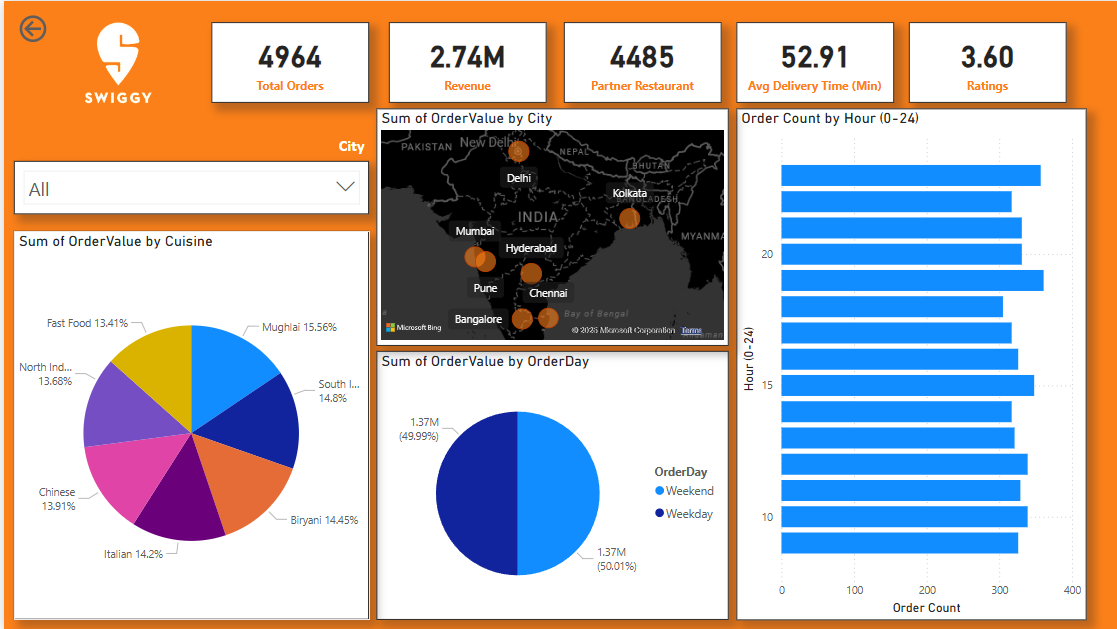

Layout of this report page (visuals, bound fields, positions):
{"tool":"powerbi","page":{"name":"Swiggy","canvas":[1280,720],"ordinal":1},"visuals":[{"type":"slicer","fields":{"Values":["swiggy_vs_zomato_dummy_data.City"]},"box":[12.1,183.2,405.8,60.6],"z":0},{"type":"image","box":[62.2,1.4,137.9,137.9],"z":1000},{"type":"card","fields":{"Values":["CountNonNull(swiggy_vs_zomato_dummy_data.Platform)"]},"box":[237.7,24.2,180.2,92.4],"z":2000},{"type":"card","fields":{"Values":["Sum(swiggy_vs_zomato_dummy_data.OrderValue)"]},"box":[440.6,24.2,180.2,92.4],"z":3000},{"type":"card","fields":{"Values":["Count(swiggy_vs_zomato_dummy_data.Restaurant)"]},"box":[640.5,24.2,180.2,92.4],"z":4000},{"type":"card","fields":{"Values":["Avg(swiggy_vs_zomato_dummy_data.DeliveryTime)"]},"box":[837.4,24.2,180.2,92.4],"z":5000},{"type":"card","fields":{"Values":["Avg(swiggy_vs_zomato_dummy_data.CustomerRating)"]},"box":[1034.2,24.2,180.2,92.4],"z":6000},{"type":"textbox","box":[12.1,148.4,405.8,37.9],"z":7000},{"type":"pieChart","fields":{"Category":["swiggy_vs_zomato_dummy_data.OrderDay"],"Y":["Sum(swiggy_vs_zomato_dummy_data.OrderValue)"]},"box":[425.6,400,402.8,307.2],"z":8000},{"type":"barChart","fields":{"Category":["swiggy_vs_zomato_dummy_data.OrderHour"],"Y":["CountNonNull(swiggy_vs_zomato_dummy_data.OrderDay)"]},"box":[837.4,122.7,399.8,584.5],"z":9000},{"type":"pieChart","fields":{"Y":["Sum(swiggy_vs_zomato_dummy_data.OrderValue)"],"Category":["swiggy_vs_zomato_dummy_data.Cuisine"]},"box":[12.1,263.5,405.8,443.7],"z":10000},{"type":"map","fields":{"Category":["swiggy_vs_zomato_dummy_data.City"],"Size":["Sum(swiggy_vs_zomato_dummy_data.OrderValue)"]},"box":[425,122.8,402.8,271.1],"z":11000},{"type":"actionButton","box":[12.2,10.8,100,40.6],"z":12000}]}

Visuals, with their boxes in screenshot pixels (x1, y1, x2, y2), scaled from the page's 1280x720 canvas onto the 1117x629 screenshot:
slicer - swiggy_vs_zomato_dummy_data.City: [11, 160, 365, 213]
image: [54, 1, 175, 122]
card - CountNonNull(swiggy_vs_zomato_dummy_data.Platform): [207, 21, 365, 102]
card - Sum(swiggy_vs_zomato_dummy_data.OrderValue): [384, 21, 542, 102]
card - Count(swiggy_vs_zomato_dummy_data.Restaurant): [559, 21, 716, 102]
card - Avg(swiggy_vs_zomato_dummy_data.DeliveryTime): [731, 21, 888, 102]
card - Avg(swiggy_vs_zomato_dummy_data.CustomerRating): [903, 21, 1060, 102]
textbox: [11, 130, 365, 163]
pieChart - swiggy_vs_zomato_dummy_data.OrderDay x Sum(swiggy_vs_zomato_dummy_data.OrderValue): [371, 349, 723, 618]
barChart - swiggy_vs_zomato_dummy_data.OrderHour x CountNonNull(swiggy_vs_zomato_dummy_data.OrderDay): [731, 107, 1080, 618]
pieChart - Sum(swiggy_vs_zomato_dummy_data.OrderValue) x swiggy_vs_zomato_dummy_data.Cuisine: [11, 230, 365, 618]
map - swiggy_vs_zomato_dummy_data.City x Sum(swiggy_vs_zomato_dummy_data.OrderValue): [371, 107, 722, 344]
actionButton: [11, 9, 98, 45]
